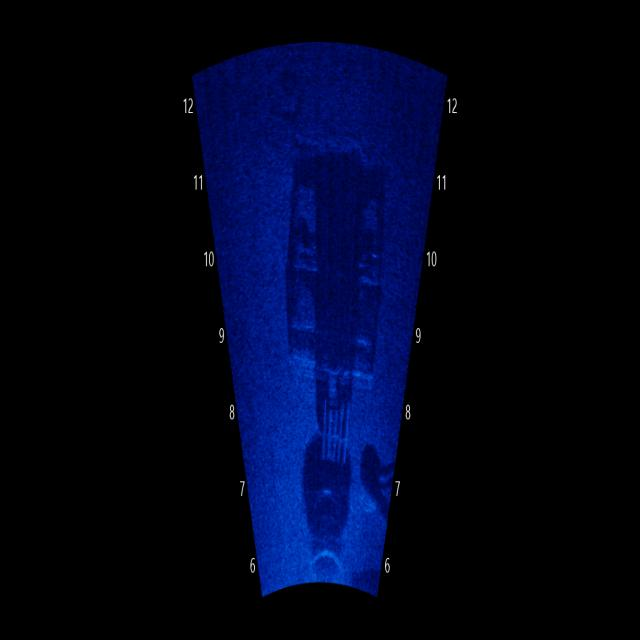circle: (276, 525, 359, 592)
square: (274, 135, 394, 386)
